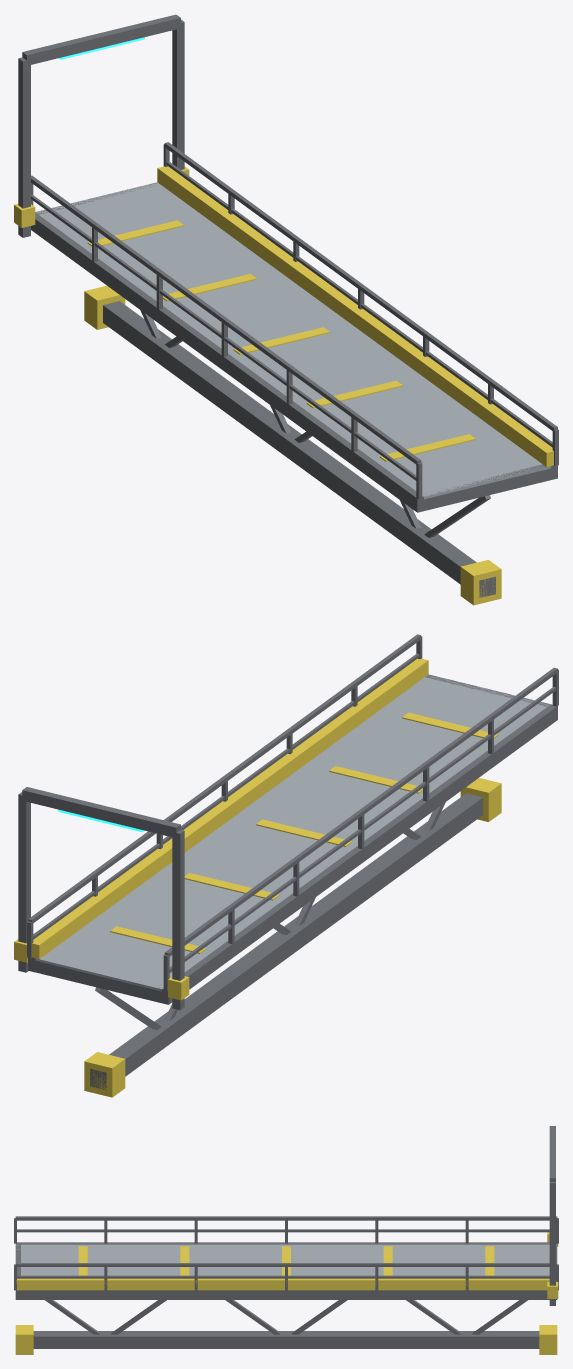
Rendered from scaffold_curved_bank.glb.
3 renders of one model, top to bottom at view 1: azimuth 30°, elevation 25°; view 2: azimuth 150°, elevation 25°; view 3: azimuth 270°, elevation 25°, orthographic. The views are drawn at different scales.
Visible parts, largest first — view 1: Deck_a, Spine, Kerb, Frame_a_-1, Rail_a_1, Rail_a_-1, PortalLintel, MidRail_a_-1, MidRail_a_1, PortalPost_-1, Header_a_1, PortalPost_1 (+2 smaller); view 2: Deck_a, Spine, Kerb, Frame_a_-1, Rail_a_-1, Rail_a_1, PortalLintel, MidRail_a_-1, MidRail_a_1, PortalPost_-1, PortalPost_1, Header_a_0 (+8 smaller); view 3: Deck_a, Spine, Kerb, Frame_a_1, Rail_a_-1, Rail_a_1, MidRail_a_-1, MidRail_a_1, Frame_a_-1, PortalPost_1, Collar_0, Collar_12 (+7 smaller).
Boxes of the visible parts, x1,y1,x2,y2 form: Deck_a: [35, 182, 550, 499]; Spine: [103, 301, 495, 597]; Kerb: [157, 166, 553, 466]; Frame_a_-1: [31, 213, 423, 512]; Rail_a_1: [164, 142, 557, 430]; Rail_a_-1: [31, 175, 421, 464]; PortalLintel: [22, 14, 180, 64]; MidRail_a_-1: [31, 194, 416, 480]; MidRail_a_1: [166, 161, 552, 447]; PortalPost_-1: [18, 57, 30, 237]; Header_a_1: [413, 464, 554, 512]; PortalPost_1: [172, 19, 184, 169]; Deck_a: [35, 674, 550, 991]; Spine: [90, 793, 482, 1089]; Kerb: [32, 658, 428, 959]; Frame_a_-1: [162, 705, 556, 1004]; Rail_a_-1: [164, 667, 557, 956]; Rail_a_1: [28, 634, 421, 923]; PortalLintel: [22, 787, 180, 837]; MidRail_a_-1: [169, 687, 555, 972]; MidRail_a_1: [33, 653, 419, 939]; PortalPost_-1: [172, 830, 184, 1010]; PortalPost_1: [18, 792, 30, 972]; Header_a_0: [28, 958, 168, 1003]; Deck_a: [16, 1244, 549, 1275]; Spine: [33, 1331, 539, 1348]; Kerb: [16, 1278, 556, 1290]; Frame_a_1: [15, 1290, 549, 1299]; Rail_a_-1: [15, 1216, 557, 1220]; Rail_a_1: [15, 1263, 557, 1266]; MidRail_a_-1: [17, 1229, 549, 1232]; MidRail_a_1: [17, 1275, 549, 1278]; Frame_a_-1: [17, 1242, 549, 1244]; PortalPost_1: [549, 1182, 555, 1305]; Collar_0: [539, 1325, 557, 1354]; Collar_12: [15, 1325, 33, 1354].
Bounding box in the file's own units: 2.98 × 4.84 × 12.07.
